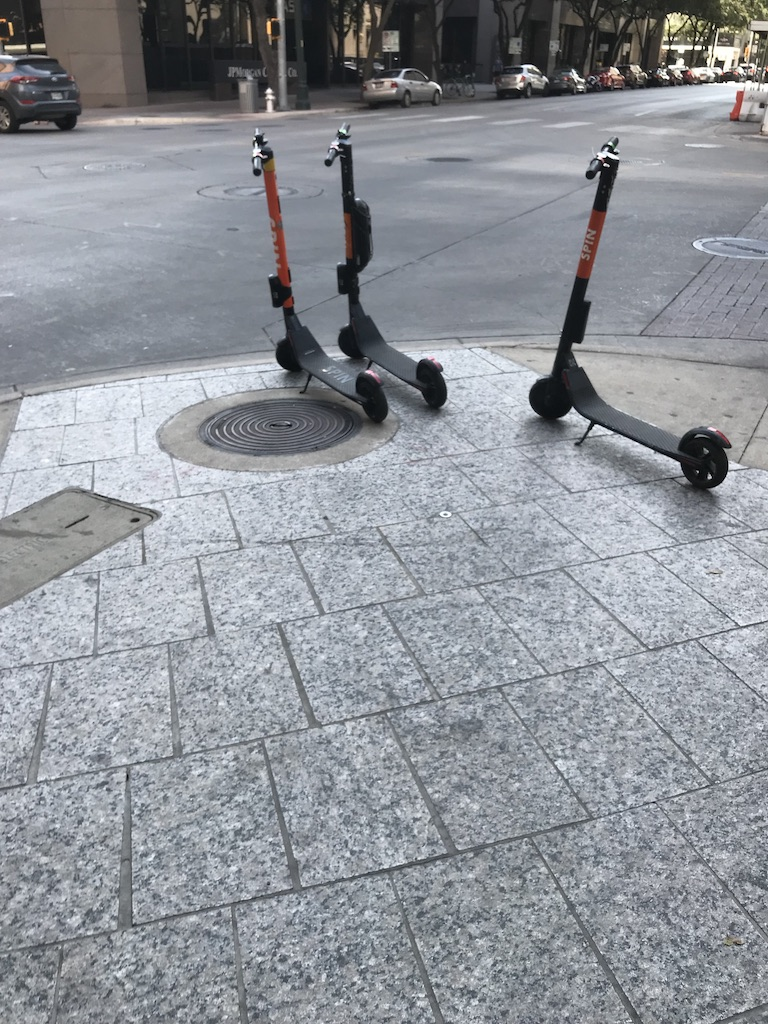scooter: (528, 137, 730, 490), (254, 127, 389, 424), (326, 120, 447, 408)
